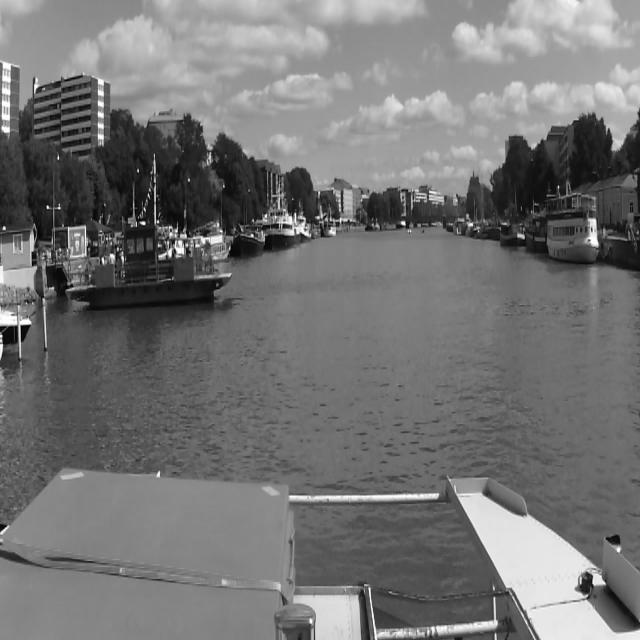ship: (68, 220, 234, 306), (547, 190, 601, 262), (265, 176, 301, 250), (232, 226, 266, 252), (526, 210, 544, 254), (501, 217, 525, 245), (298, 200, 311, 241), (322, 204, 336, 237), (407, 229, 411, 233), (422, 229, 424, 233)
